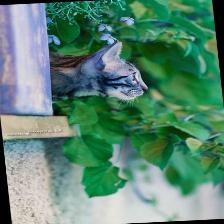kedo: (51, 40, 149, 101)
